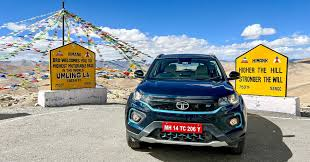Tata Nexon: (123, 50, 248, 158)
